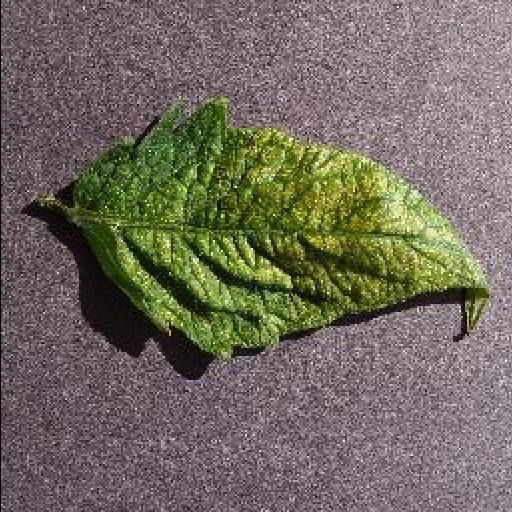disease_tomato: (67, 101, 493, 356)
